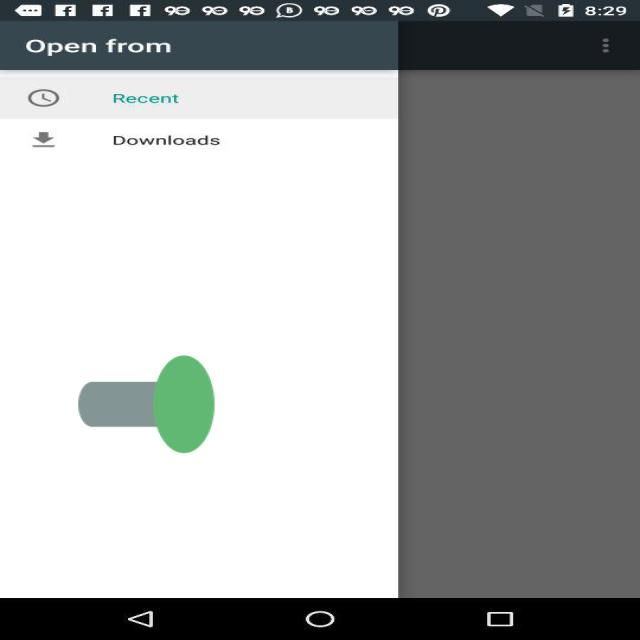social proof: (78, 296, 215, 514)
